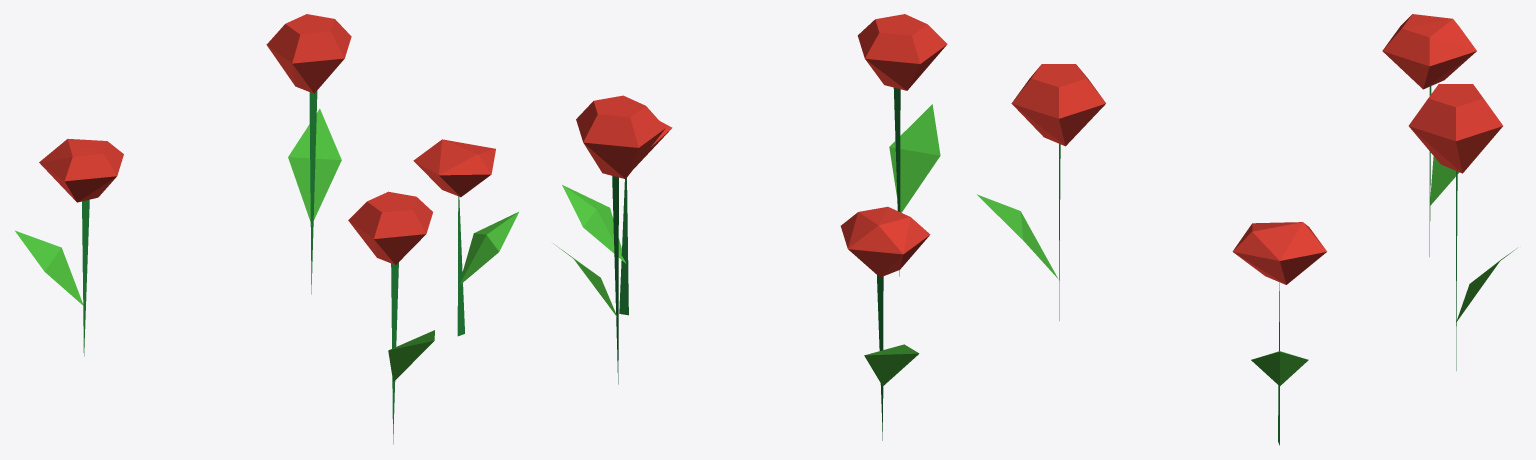
The model's file is flower_tulip_red.fbx.
3 renders of one model, left to right at view 1: azimuth 30°, elevation 25°; view 2: azimuth 150°, elevation 25°; view 3: azimuth 270°, elevation 25°, orthographic. The views are drawn at different scales.
Visible parts, largest first — view 1: flower_tulip_red; view 2: flower_tulip_red; view 3: flower_tulip_red.
Boxes of the visible parts, x1,y1,x2,y2 form: flower_tulip_red: (15, 14, 518, 444); flower_tulip_red: (553, 14, 947, 440); flower_tulip_red: (977, 14, 1516, 445).
Bounding box in the file's own units: 0.8 × 0.5 × 0.8.
